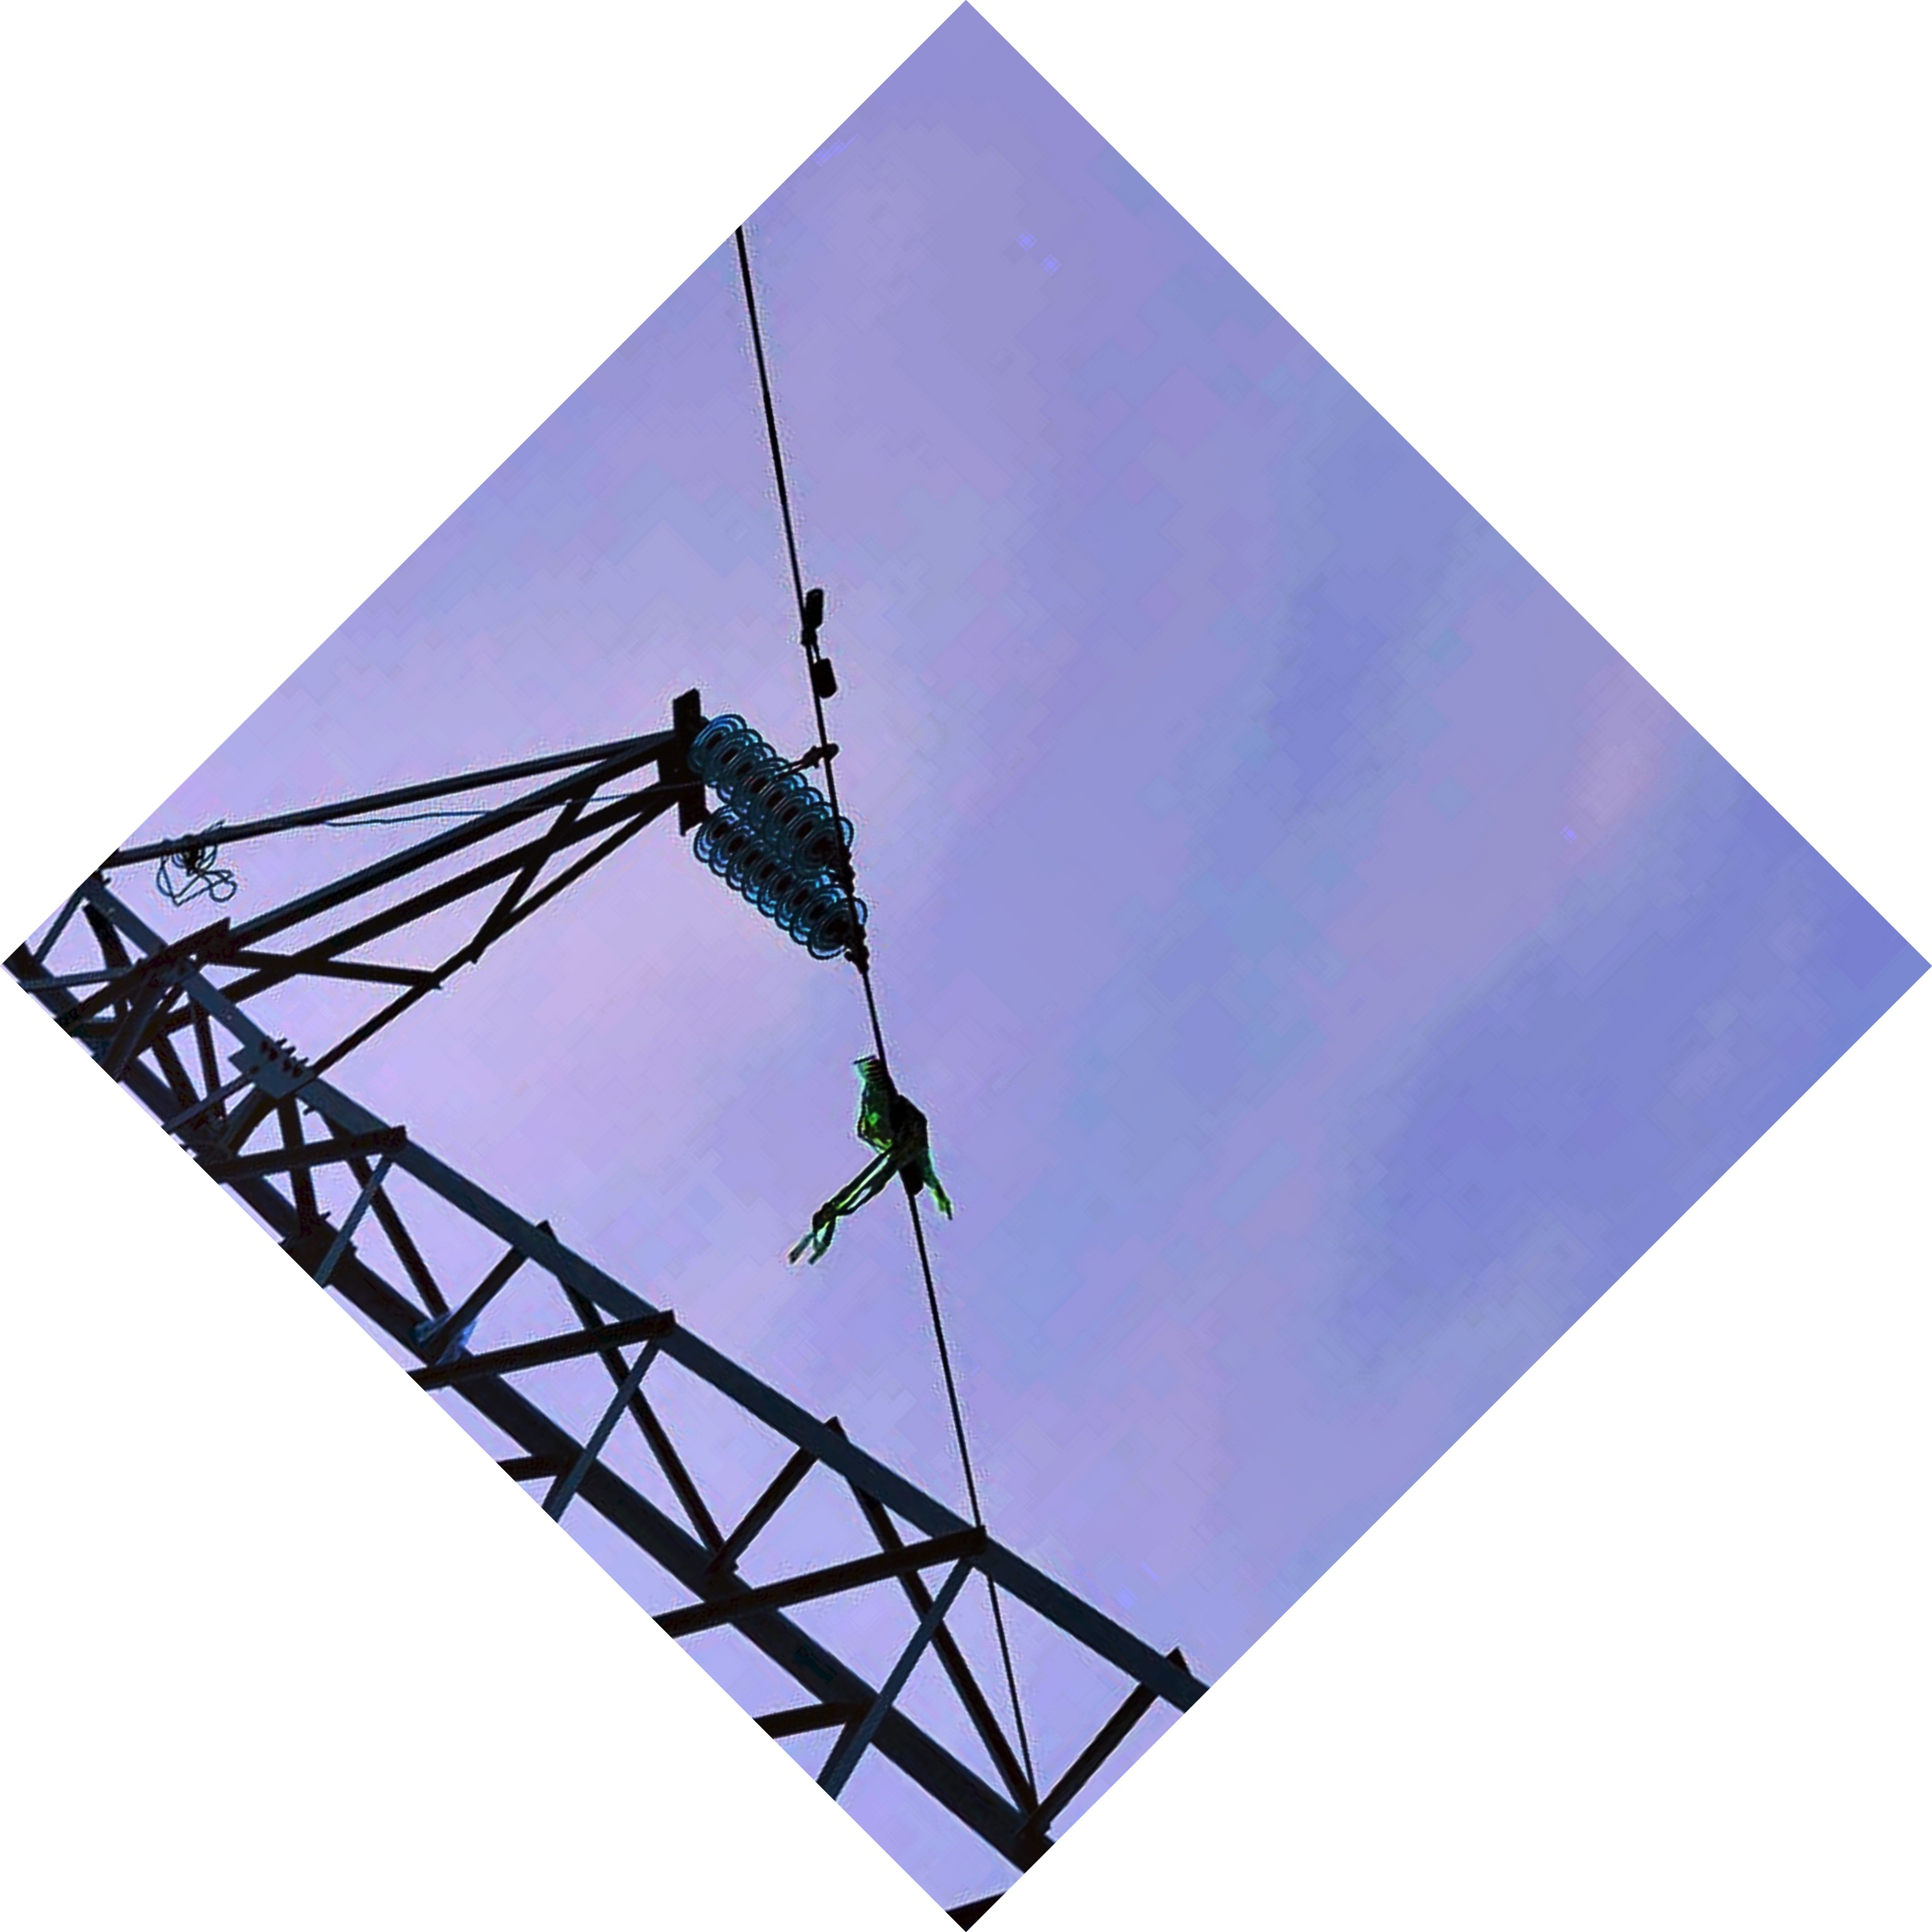wire foreign body: (766, 1033, 977, 1293)
